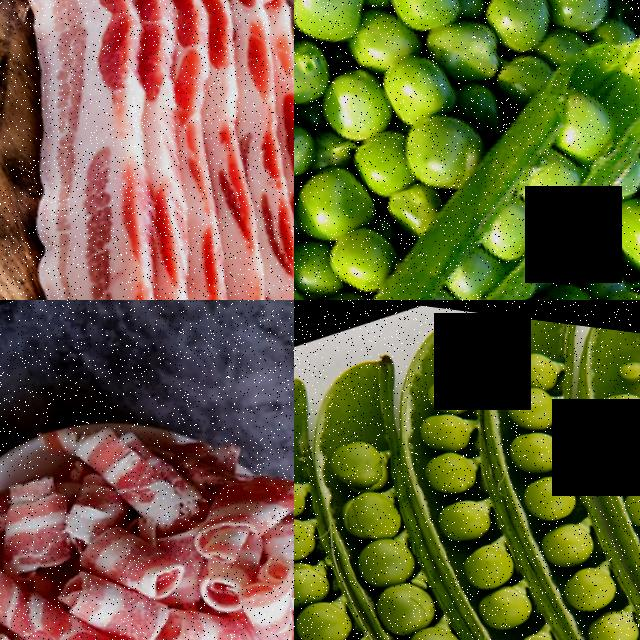peas: (294, 58, 640, 300), (294, 0, 529, 300), (382, 365, 636, 640), (452, 312, 640, 640), (304, 412, 554, 640), (294, 446, 466, 640)
pork belly: (0, 158, 200, 300), (64, 392, 207, 553), (0, 0, 190, 103), (0, 504, 137, 640), (212, 532, 294, 640)
